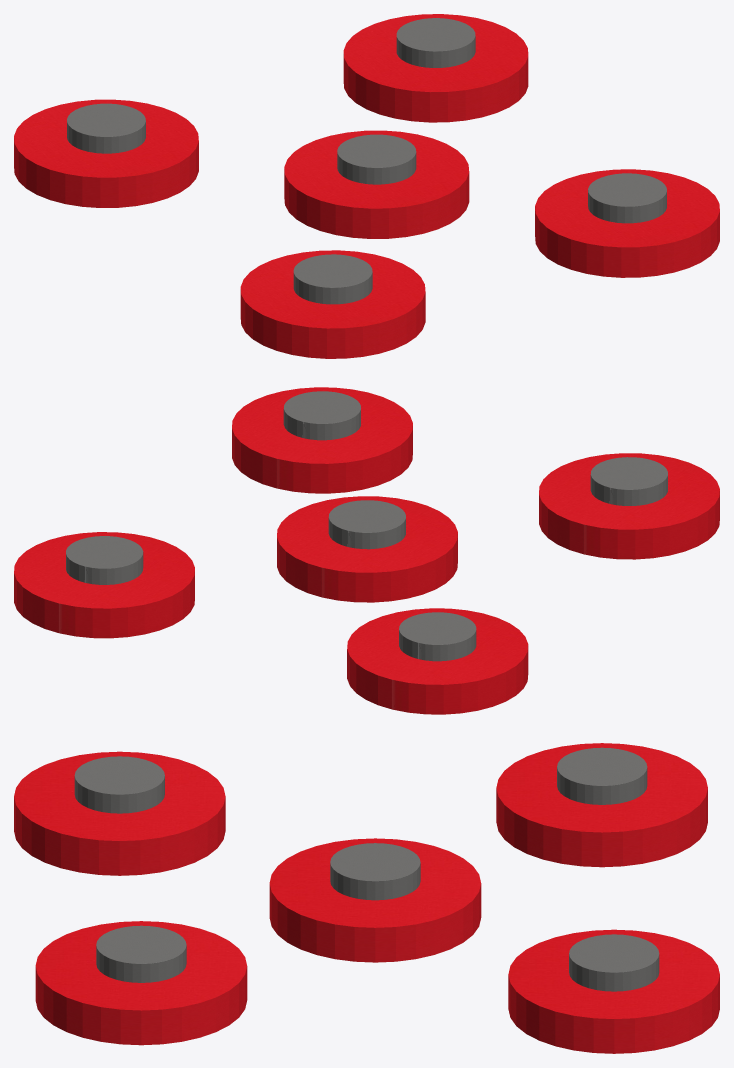
Rendered from caltropsv2.obj.
The picture shows the model from 3 angles, top to bottom: view 1: azimuth 30°, elevation 25°; view 2: azimuth 150°, elevation 25°; view 3: azimuth 270°, elevation 25°; orthographic projection. The views are drawn at different scales.
Visible parts, largest first — view 1: Cylinder.004_Cylinder.011, Cylinder.001_Cylinder.007, Cylinder.002_Cylinder.009, Cylinder.003_Cylinder.010, Cylinder.000_Cylinder.008; view 2: Cylinder.000_Cylinder.008, Cylinder.003_Cylinder.010, Cylinder.004_Cylinder.011, Cylinder.002_Cylinder.009, Cylinder.001_Cylinder.007; view 3: Cylinder.001_Cylinder.007, Cylinder.003_Cylinder.010, Cylinder.000_Cylinder.008, Cylinder.002_Cylinder.009, Cylinder.004_Cylinder.011.
Part boxes in pixels (x1,y1,x2,y2): Cylinder.004_Cylinder.011: [240, 250, 425, 358]; Cylinder.001_Cylinder.007: [284, 130, 469, 238]; Cylinder.002_Cylinder.009: [343, 14, 528, 122]; Cylinder.003_Cylinder.010: [535, 169, 719, 277]; Cylinder.000_Cylinder.008: [14, 99, 198, 207]; Cylinder.000_Cylinder.008: [347, 608, 528, 714]; Cylinder.003_Cylinder.010: [232, 387, 412, 493]; Cylinder.004_Cylinder.011: [539, 453, 719, 559]; Cylinder.002_Cylinder.009: [14, 532, 194, 638]; Cylinder.001_Cylinder.007: [277, 496, 457, 602]; Cylinder.001_Cylinder.007: [269, 838, 481, 962]; Cylinder.003_Cylinder.010: [35, 921, 247, 1045]; Cylinder.000_Cylinder.008: [496, 743, 707, 867]; Cylinder.002_Cylinder.009: [508, 929, 719, 1053]; Cylinder.004_Cylinder.011: [14, 751, 225, 875].
Size of the model in its own units: 6.17 by 0.5809 by 6.67.
